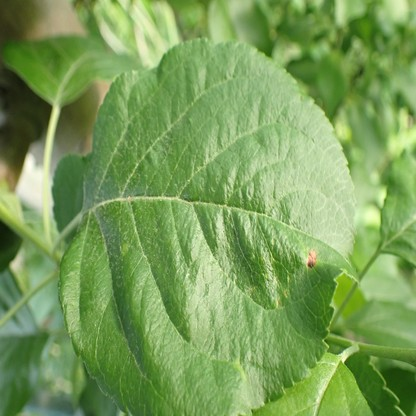frogeye_leaf_spot: (307, 247, 317, 269)
